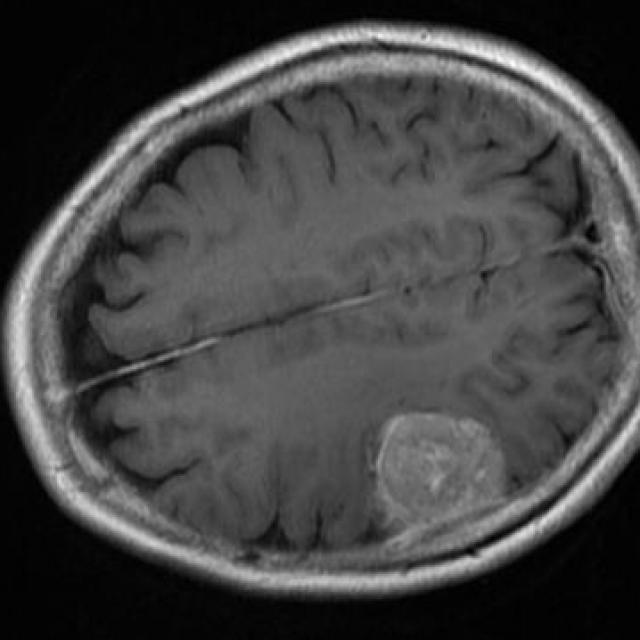meningioma: (376, 414, 505, 524)
